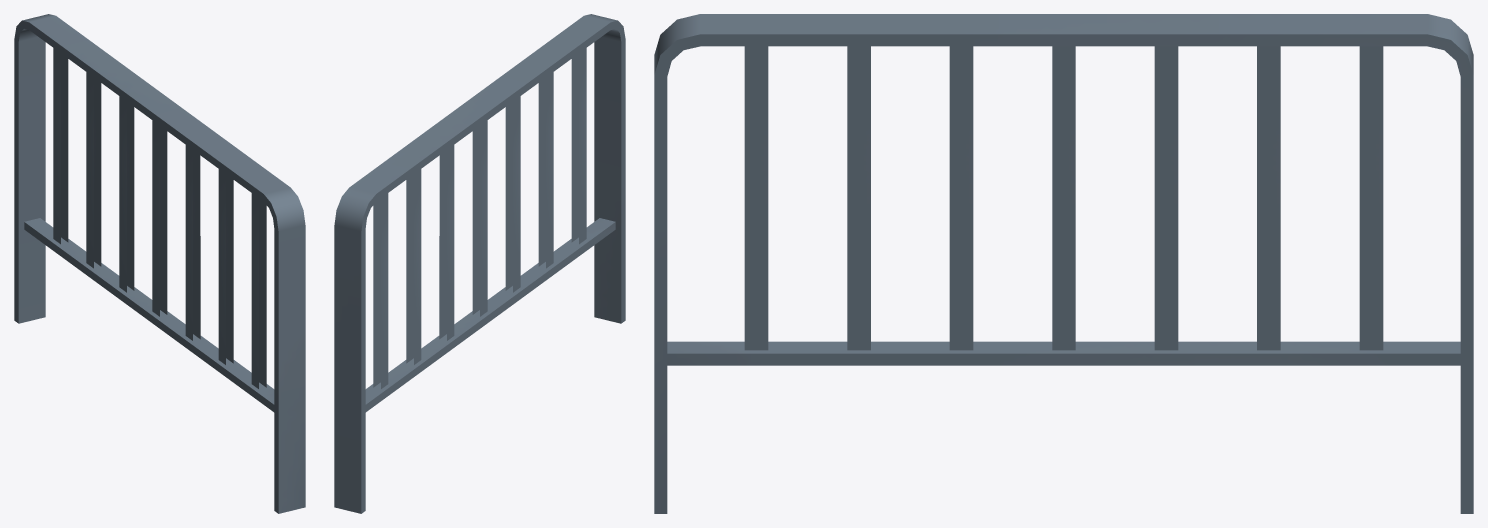
The model's file is Barrier1_LOD1.fbx.
3 views of the same model, side by side, from view 1: azimuth 30°, elevation 25°; view 2: azimuth 150°, elevation 25°; view 3: azimuth 270°, elevation 25° (orthographic). The views are drawn at different scales.
Parts seen in each view (by area): view 1: polySurface1322; view 2: polySurface1322; view 3: polySurface1322.
Part boxes in pixels (<box>): polySurface1322: <box>14,14,305,513</box>; polySurface1322: <box>334,14,625,513</box>; polySurface1322: <box>654,14,1473,513</box>.
Size of the model in its own units: 11.77 by 129 by 200.
